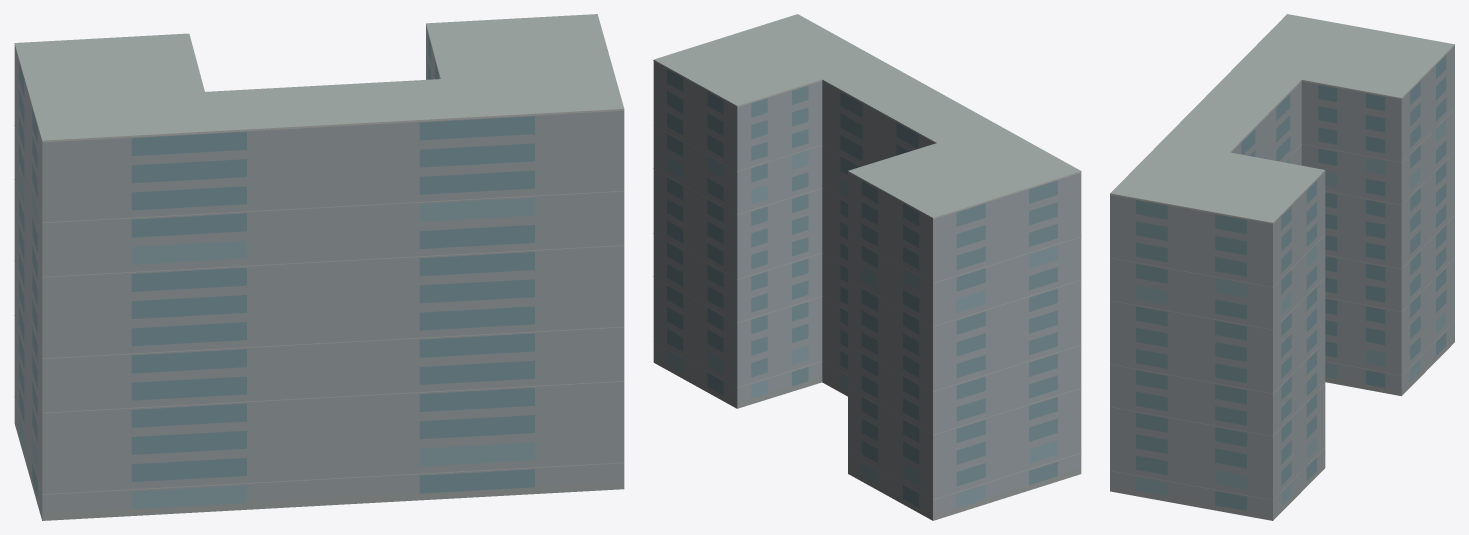
The model's file is residential-6df3c79f-7684-47c0-8d32-ac4d52363a87.glb.
The picture shows the model from 3 angles, left to right: view 1: azimuth 30°, elevation 25°; view 2: azimuth 150°, elevation 25°; view 3: azimuth 270°, elevation 25°; orthographic projection. The views are drawn at different scales.
Visible parts, largest first — view 1: residential-6df3c79f-7684-47c0-8d32-ac4d52363a87.tmp; view 2: residential-6df3c79f-7684-47c0-8d32-ac4d52363a87.tmp; view 3: residential-6df3c79f-7684-47c0-8d32-ac4d52363a87.tmp.
Part boxes in pixels (x1,y1,x2,y2): residential-6df3c79f-7684-47c0-8d32-ac4d52363a87.tmp: [14, 14, 624, 520]; residential-6df3c79f-7684-47c0-8d32-ac4d52363a87.tmp: [653, 14, 1081, 520]; residential-6df3c79f-7684-47c0-8d32-ac4d52363a87.tmp: [1110, 14, 1454, 520].
Bounding box in the file's own units: 75.19 × 50 × 52.44.
